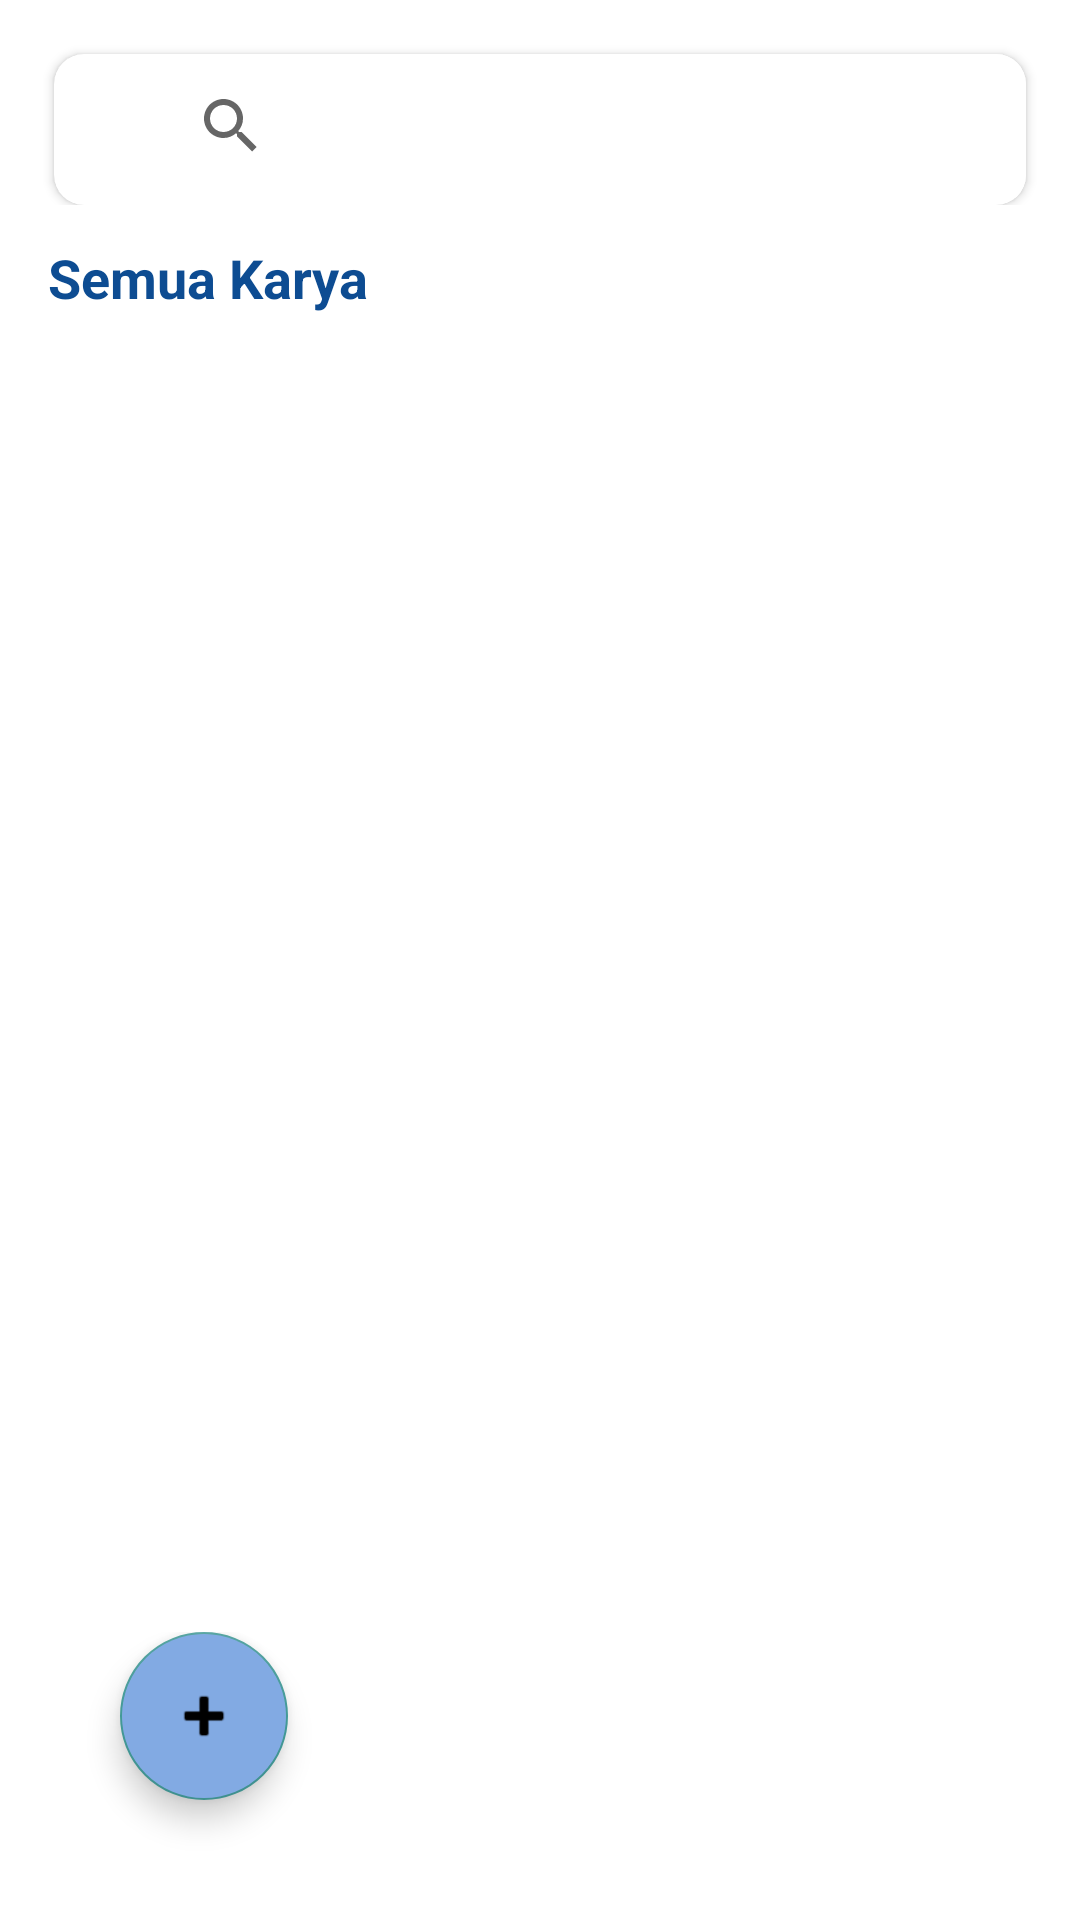

Locate icon controls on the screen. Image size 1080*1920, boxes as [x1, y1, x2, y2].
add: [120, 1632, 288, 1800]
